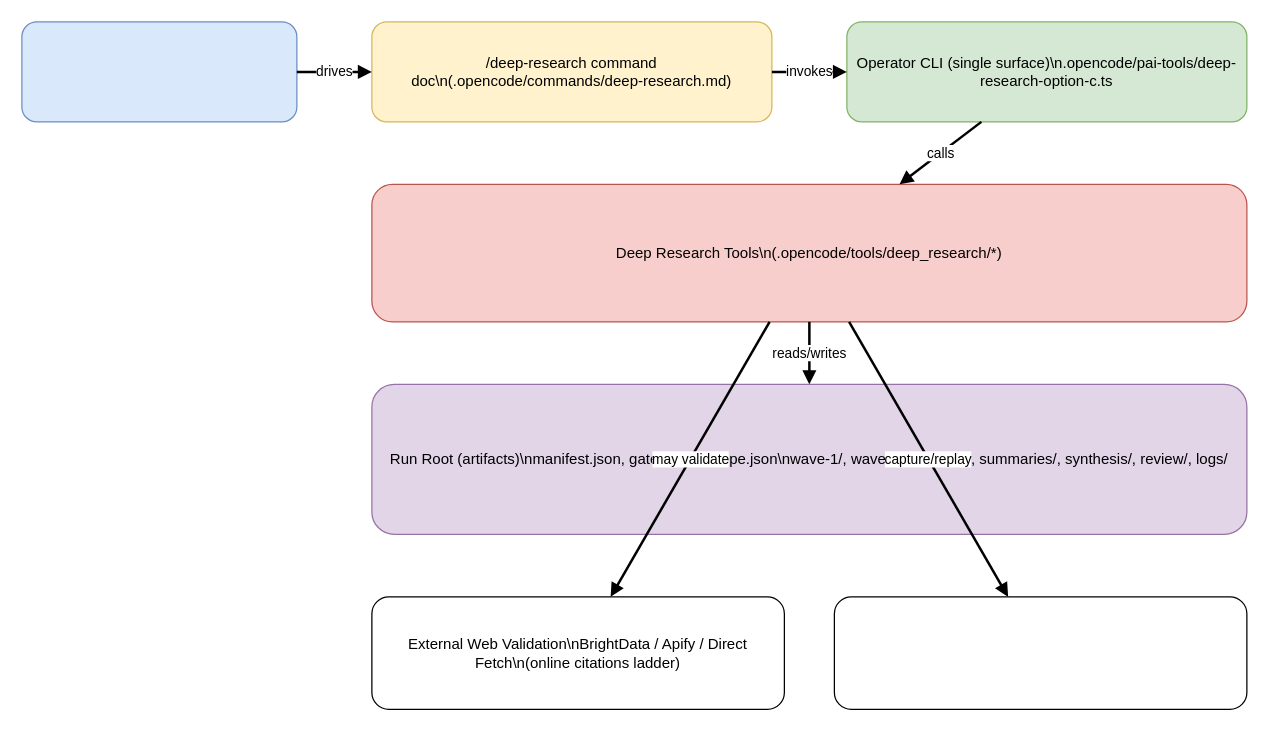
Some shapes in this 1269 by 731 pixel diagram are drawn without their labels. The centre of each missing label's shape, as x and y in pixels:
"Fixture Bundles\n(capture + replay)\nfixtures/ + tests/fixtures" belongs at pixel 1040 652.
"Operator (Marvin / LLM)\nOpenCode chat" belongs at pixel 159 71.
